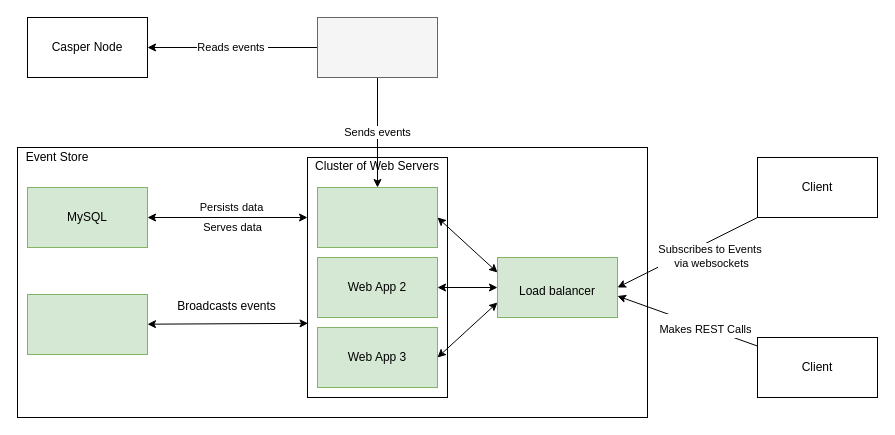
Image size: 895x435. Some labels were removed from this diagram. Here are the shapes that lost their labels. From the top down, the centre of each, then its label:
(377,47): Event Fetcher
(377,217): Web App 1
(87,324): Redis
